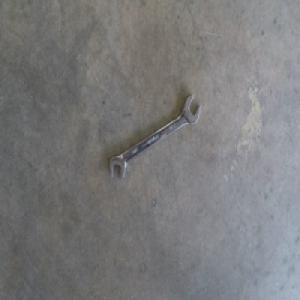Wrench: (109, 88, 200, 182)
